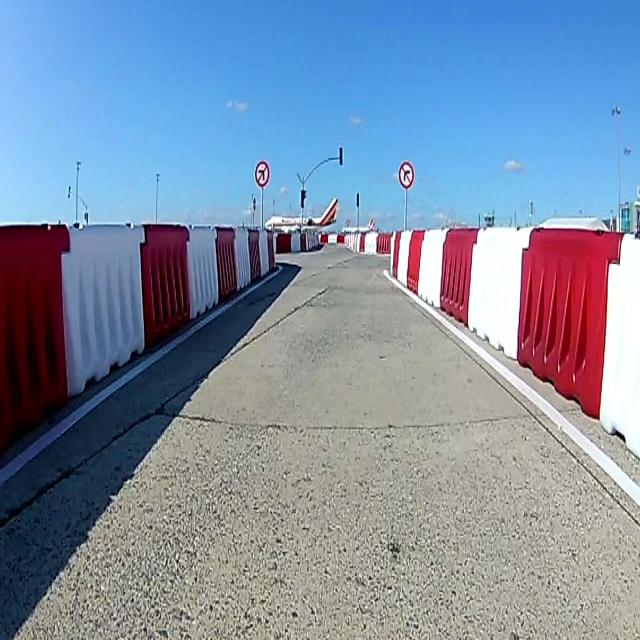sagadonulmez: (397, 160, 413, 188)
soladonulmez: (255, 160, 269, 186)
